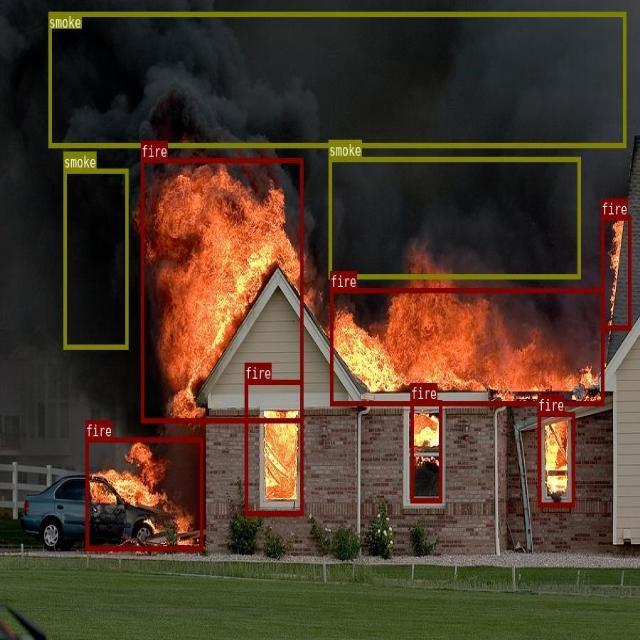fire: (141, 158, 303, 422), (330, 288, 604, 405), (85, 437, 202, 550), (244, 379, 303, 515), (537, 411, 574, 507), (601, 216, 631, 330), (411, 399, 442, 502)
smoke: (48, 12, 626, 146), (328, 156, 580, 278), (63, 168, 128, 349)
